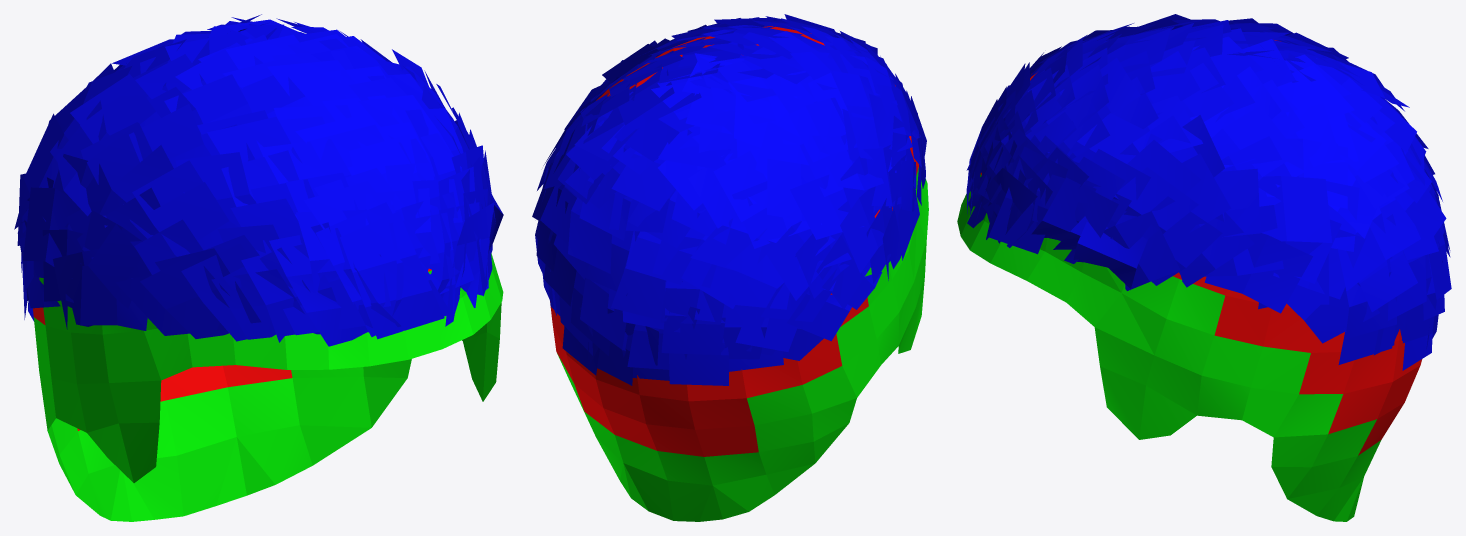
The model's file is hair_003.obj.
3 views of the same model, side by side, from view 1: azimuth 30°, elevation 25°; view 2: azimuth 150°, elevation 25°; view 3: azimuth 270°, elevation 25° (orthographic). The views are drawn at different scales.
Bounding box in the file's own units: 17.05 × 21.68 × 20.73.
